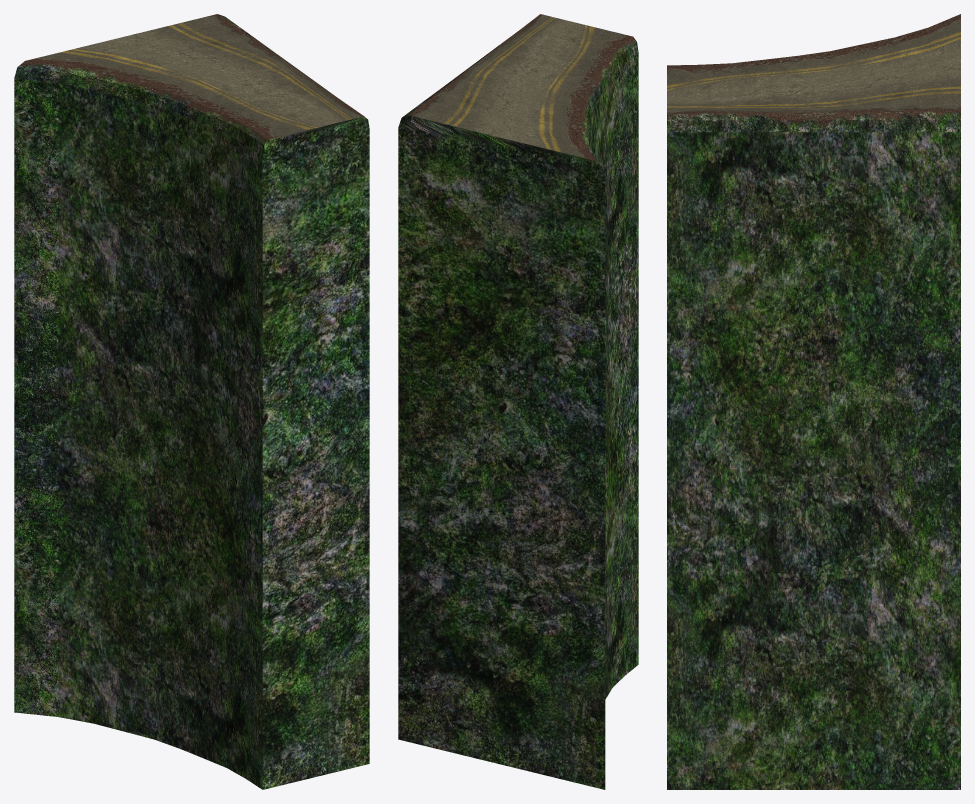
Rendered from Getting Thin Mirror.fbx.
The picture shows the model from 3 angles, left to right: view 1: azimuth 30°, elevation 25°; view 2: azimuth 150°, elevation 25°; view 3: azimuth 270°, elevation 25°; orthographic projection. The views are drawn at different scales.
Visible parts, largest first — view 1: Getting Thin Mirror; view 2: Getting Thin Mirror; view 3: Getting Thin Mirror.
Boxes of the visible parts, left/top/right/bottom form: Getting Thin Mirror: left=14, top=14, right=369, bottom=789; Getting Thin Mirror: left=398, top=14, right=638, bottom=789; Getting Thin Mirror: left=667, top=14, right=960, bottom=789.
Size of the model in its own units: 68.3 by 198 by 78.25.
